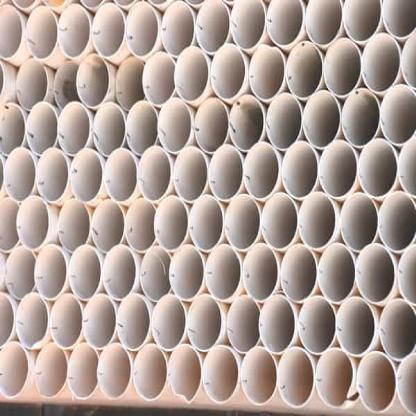pipe: (355, 244, 396, 304), (378, 190, 416, 254), (358, 138, 398, 198), (361, 33, 401, 93), (316, 348, 355, 409), (336, 297, 376, 356), (357, 352, 396, 412), (380, 298, 416, 362), (340, 192, 378, 252), (258, 294, 296, 354), (202, 344, 240, 404), (240, 346, 278, 406), (324, 38, 362, 98), (342, 88, 380, 147), (303, 90, 341, 149), (320, 140, 358, 199), (286, 41, 324, 100), (266, 92, 303, 152), (282, 140, 319, 200), (318, 244, 355, 304), (280, 244, 318, 302), (298, 296, 336, 354), (278, 347, 314, 408), (242, 244, 280, 301), (226, 294, 262, 354), (299, 192, 336, 250), (224, 194, 261, 252), (244, 141, 280, 200), (188, 194, 224, 253), (261, 193, 298, 250), (381, 84, 415, 146), (228, 94, 264, 152), (186, 294, 222, 352), (132, 344, 168, 402), (168, 344, 203, 403), (210, 43, 246, 100), (249, 45, 285, 102), (208, 144, 243, 202), (173, 146, 208, 204), (206, 244, 242, 300), (160, 1, 196, 57), (173, 47, 209, 103), (169, 244, 204, 301), (125, 1, 160, 58), (151, 294, 186, 351), (266, 0, 306, 49), (97, 344, 132, 400), (104, 244, 138, 301), (68, 244, 102, 301), (116, 294, 150, 351), (195, 0, 230, 55), (194, 98, 228, 154), (158, 98, 192, 154), (154, 196, 188, 252), (58, 3, 92, 59), (34, 342, 68, 398), (16, 292, 49, 349), (92, 3, 126, 58), (82, 294, 116, 349), (76, 53, 110, 108), (3, 147, 36, 203), (34, 245, 67, 301), (142, 51, 175, 107), (137, 146, 171, 200), (70, 148, 104, 202), (36, 148, 70, 202), (16, 196, 50, 250), (67, 343, 99, 400), (50, 293, 83, 348), (25, 5, 58, 60), (104, 148, 138, 201), (58, 198, 90, 254), (305, 0, 343, 47), (231, 0, 266, 51), (93, 102, 126, 156), (58, 101, 90, 156), (26, 101, 58, 156), (343, 0, 383, 44), (140, 246, 172, 301), (114, 57, 146, 112), (126, 102, 158, 156), (92, 199, 124, 253), (16, 59, 49, 111), (0, 341, 29, 399), (126, 199, 156, 253), (6, 246, 36, 300), (0, 102, 26, 156), (382, 0, 416, 40), (0, 5, 23, 60), (397, 136, 416, 202), (396, 353, 416, 415)
